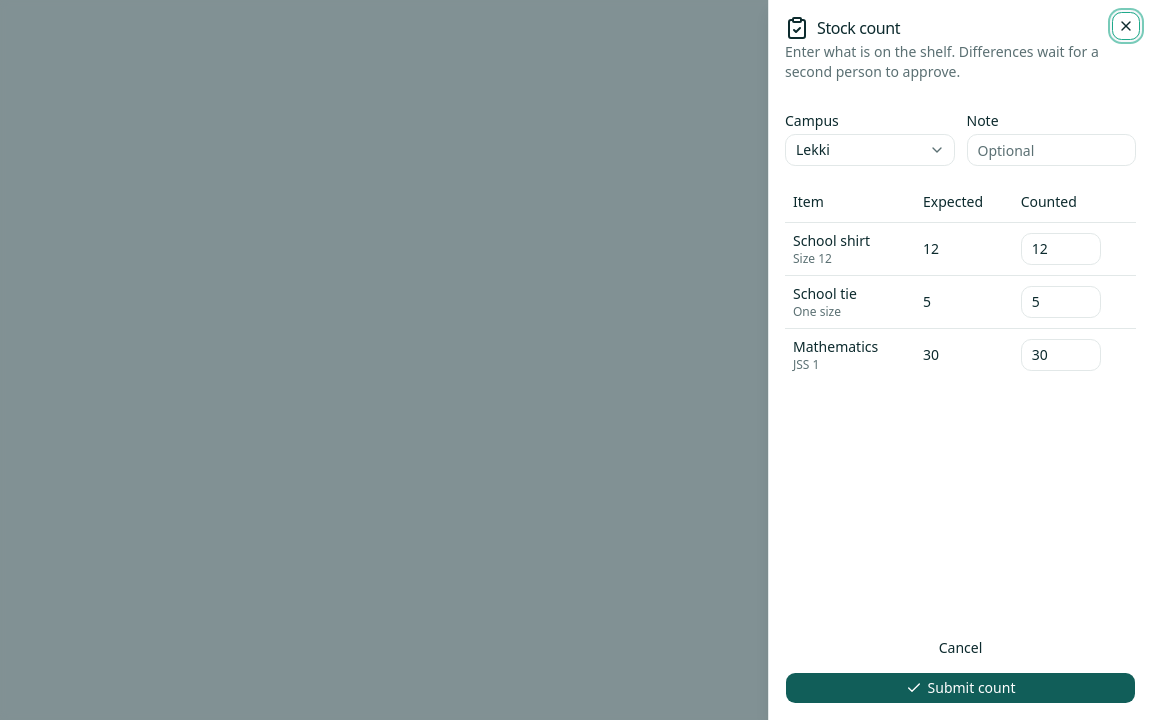
StockCountSheet › says which store and how many items differ, and sends nothing until confirmed
Replace the text in the number field named "Counted School tie" with "4" at (1061, 302), box [1021,286,1101,318]
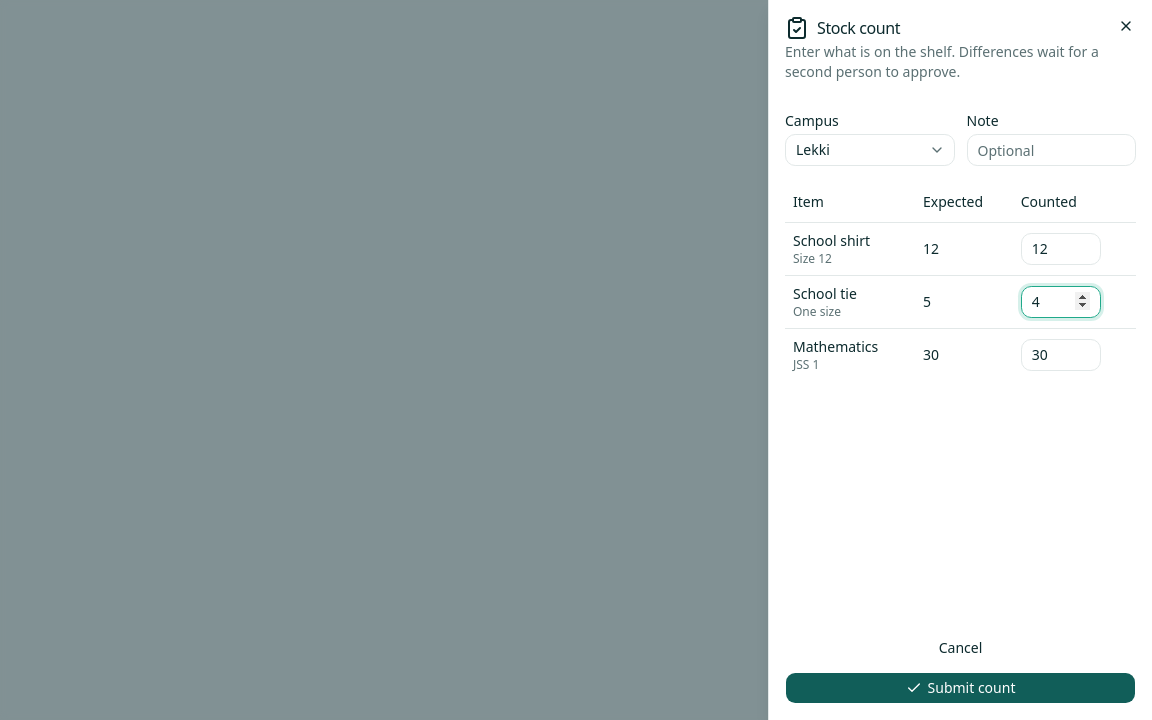
Click the button "Submit count" at (960, 688), box [785,672,1136,704]
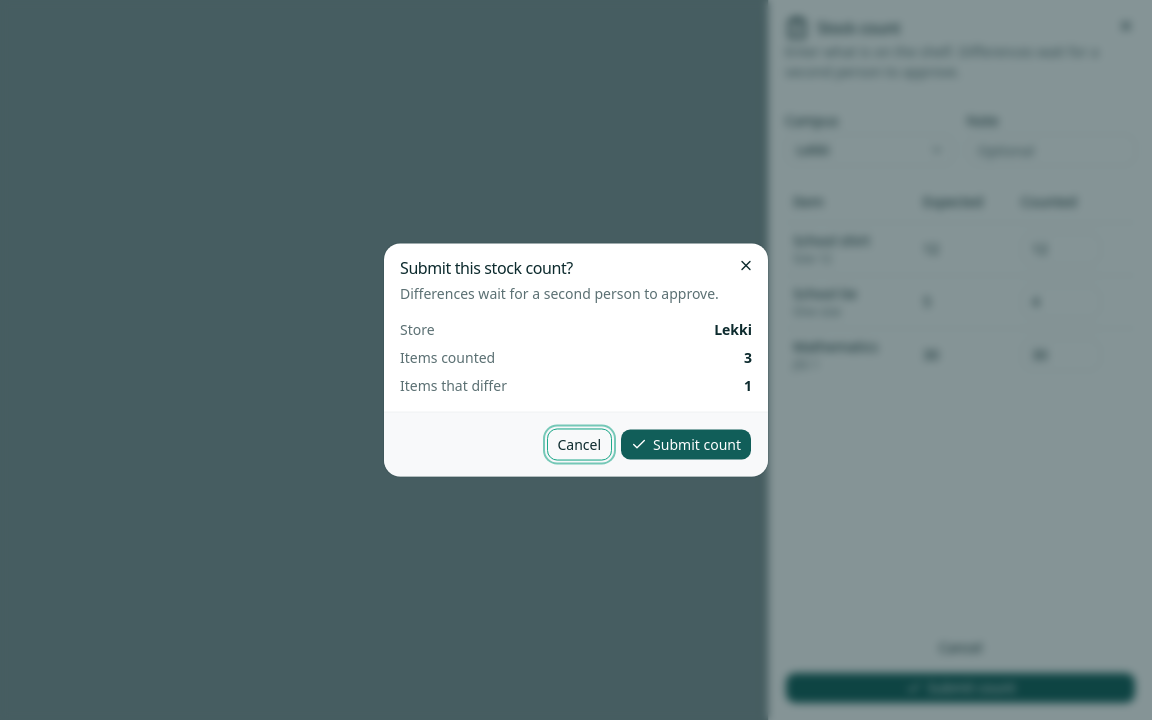
Now the text "Lekki" is shown, box [714,320,752,340]
Now the text "Items that differ" is shown, box [400,376,507,396]
Now the text "1" is shown, box [744,376,752,396]
